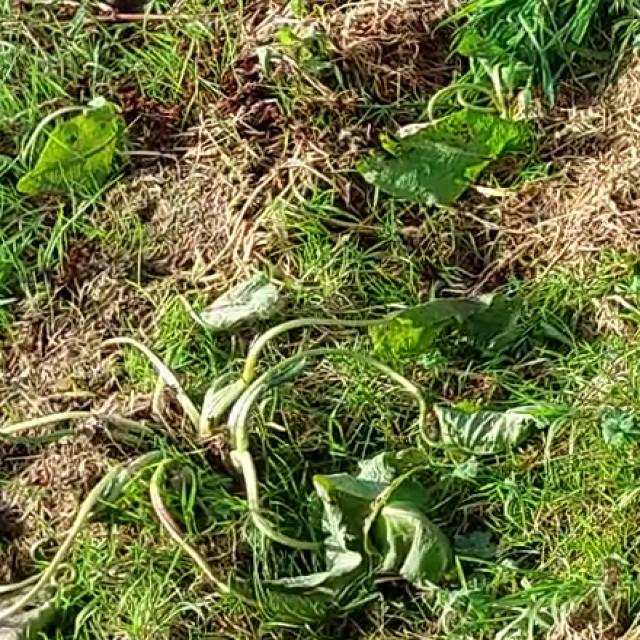organic waste: (64, 277, 639, 624), (353, 60, 640, 291), (0, 68, 170, 262)
